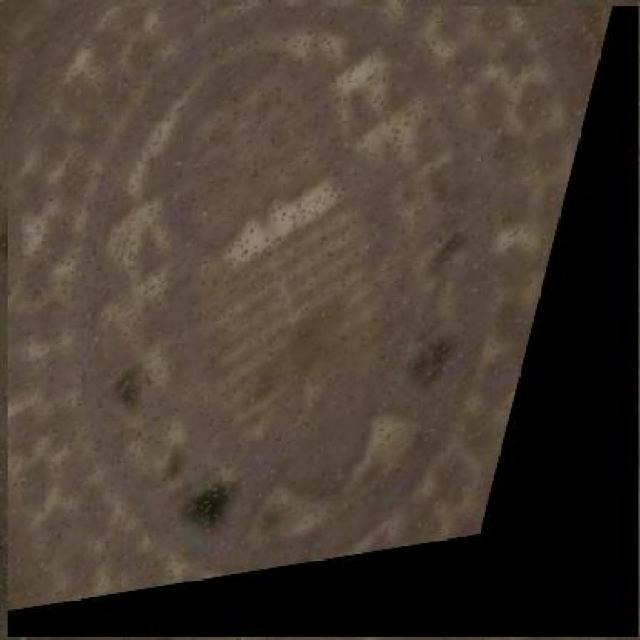Manhole: (9, 5, 640, 638)
